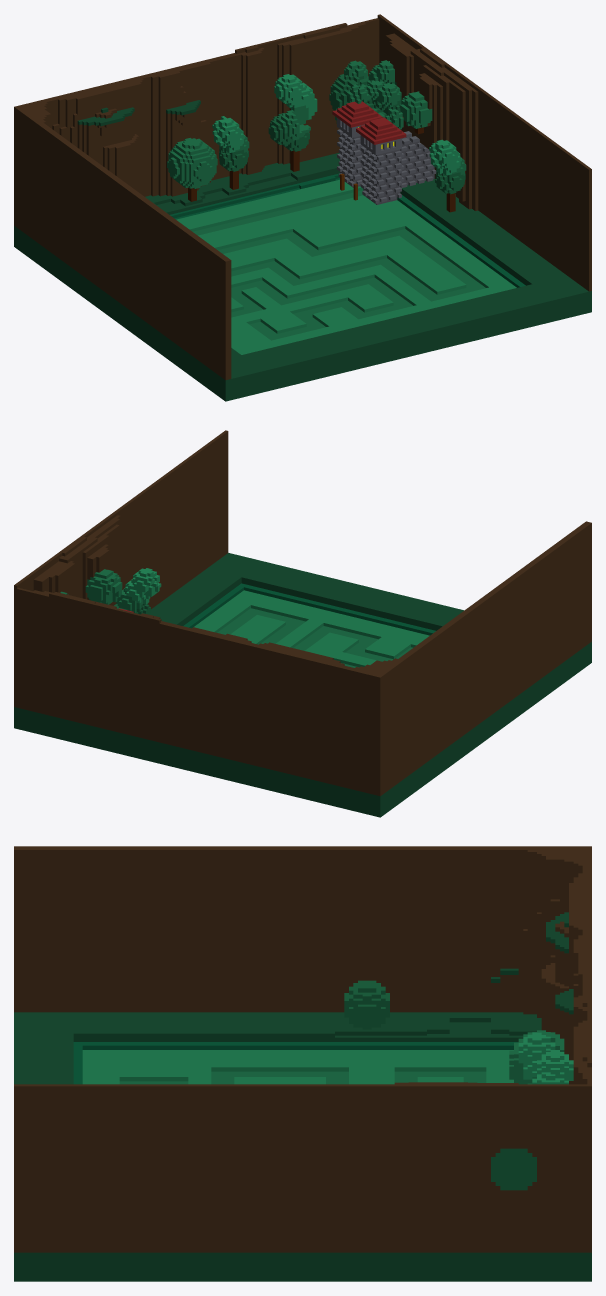
File: barracks.obj
The picture shows the model from 3 angles, top to bottom: view 1: azimuth 30°, elevation 25°; view 2: azimuth 150°, elevation 25°; view 3: azimuth 270°, elevation 25°; orthographic projection. The views are drawn at different scales.
Bounding box in the file's own units: 126 × 47 × 126.
1 material, 1 textured.
